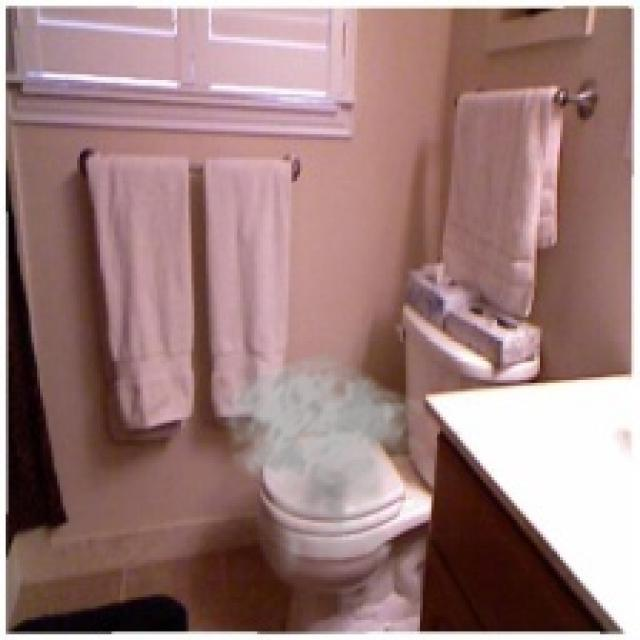Smoke: (214, 352, 432, 577)
